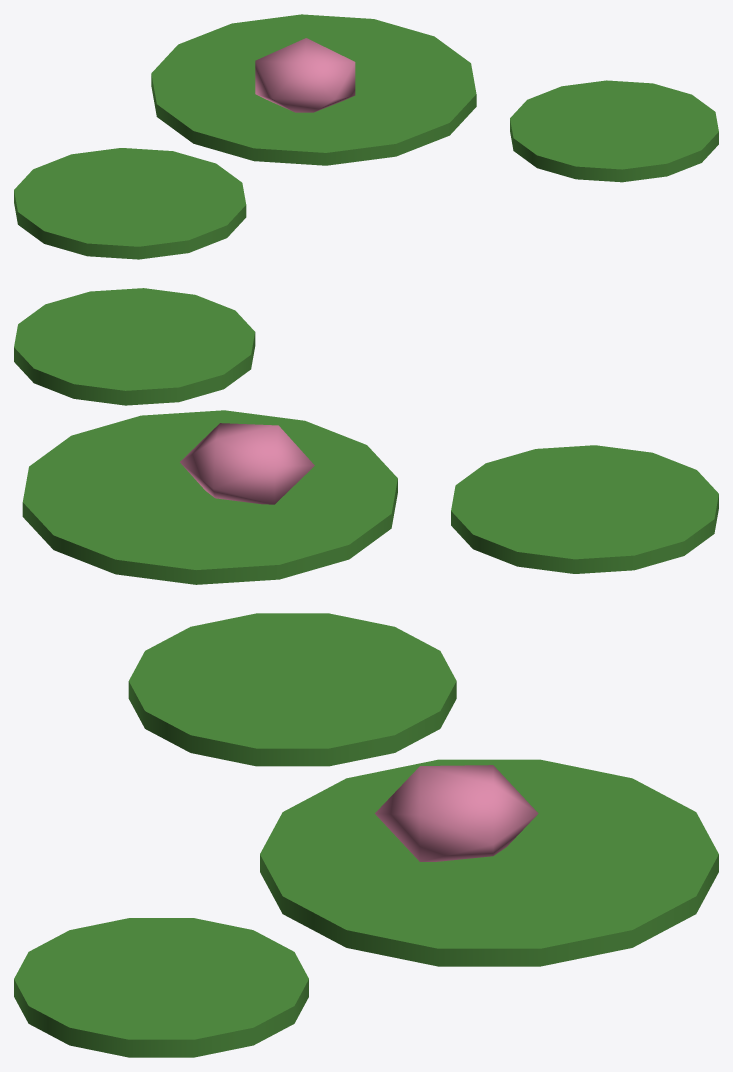
Rendered from lily_pads.fbx.
The picture shows the model from 3 angles, top to bottom: view 1: azimuth 30°, elevation 25°; view 2: azimuth 150°, elevation 25°; view 3: azimuth 270°, elevation 25°; orthographic projection. The views are drawn at different scales.
Visible parts, largest first — view 1: lily_pads; view 2: lily_pads; view 3: lily_pads.
Boxes of the visible parts, left/top/right/bottom form: lily_pads: left=14, top=14, right=718, bottom=259; lily_pads: left=14, top=288, right=718, bottom=584; lily_pads: left=14, top=613, right=718, bottom=1057.
Bounding box in the file's own units: 0.6152 × 0.0555 × 0.43.
